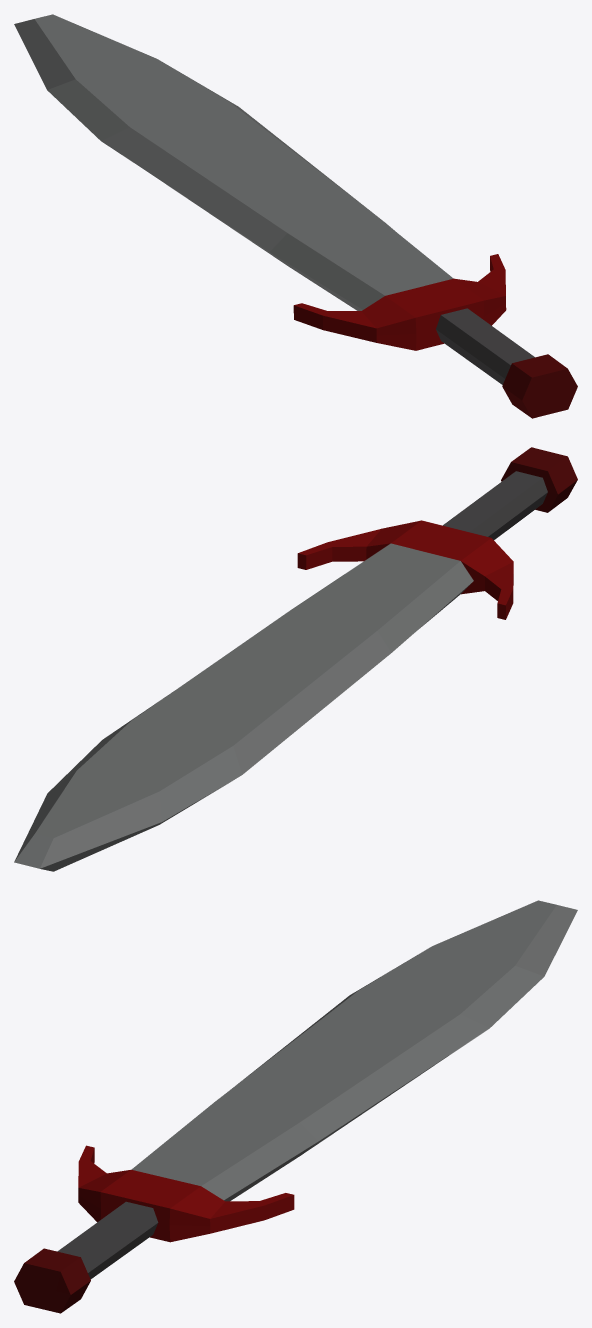
The model's file is SoldierSword.fbx.
The picture shows the model from 3 angles, top to bottom: view 1: azimuth 30°, elevation 25°; view 2: azimuth 150°, elevation 25°; view 3: azimuth 330°, elevation 25°; orthographic projection.
Parts seen in each view (by area): view 1: pCube12; view 2: pCube12; view 3: pCube12.
Boxes of the visible parts, left/top/right/bottom form: pCube12: left=14, top=14, right=577, bottom=418; pCube12: left=14, top=447, right=577, bottom=871; pCube12: left=14, top=900, right=577, bottom=1313.
Bounding box in the file's own units: 0.2267 × 0.0452 × 0.9954.
